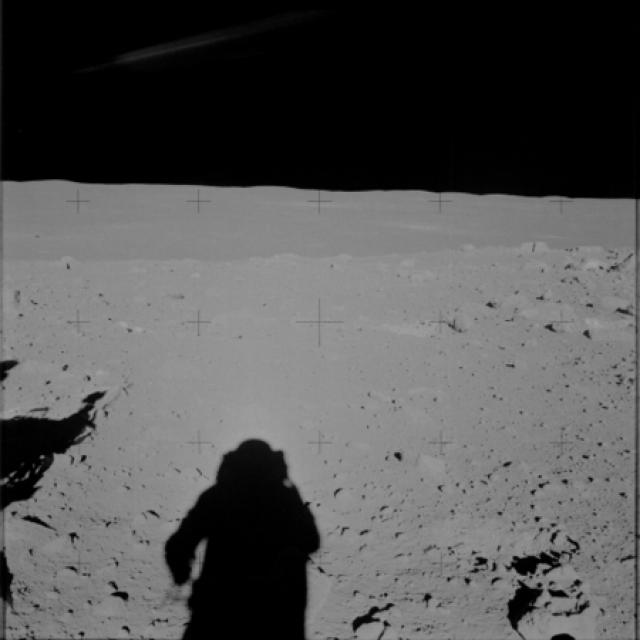crater: (363, 309, 445, 346)
rock: (499, 549, 607, 639), (0, 504, 61, 573), (346, 604, 410, 638), (86, 586, 131, 620), (446, 307, 481, 338), (131, 505, 166, 528), (543, 316, 577, 338), (406, 454, 444, 473), (574, 324, 607, 344), (508, 304, 534, 327), (480, 295, 508, 313), (329, 480, 350, 504), (536, 282, 560, 300)
